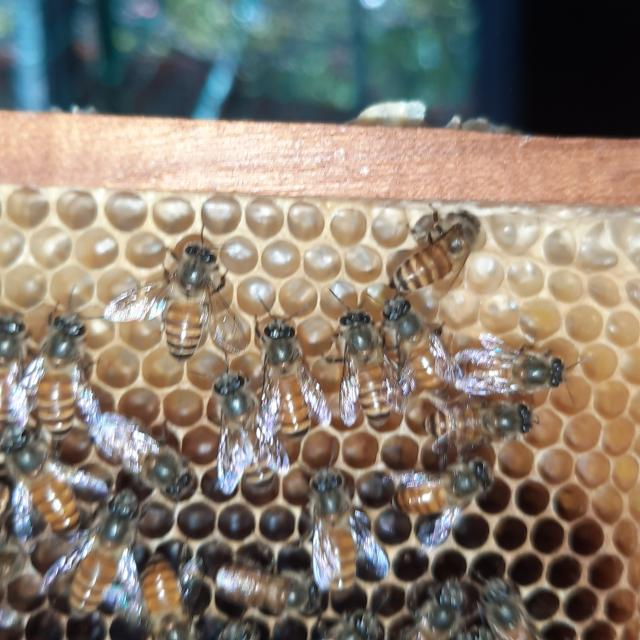honeybee: (146, 241, 241, 356), (386, 207, 494, 292), (70, 494, 142, 616), (328, 307, 398, 426), (98, 410, 196, 495), (256, 318, 321, 445), (1, 432, 74, 530), (306, 474, 370, 585), (34, 316, 92, 432), (213, 556, 318, 616), (427, 400, 537, 456), (389, 459, 489, 520), (446, 341, 568, 390), (388, 302, 448, 390), (139, 547, 194, 640), (477, 574, 542, 640), (406, 574, 462, 640), (0, 318, 32, 429)
